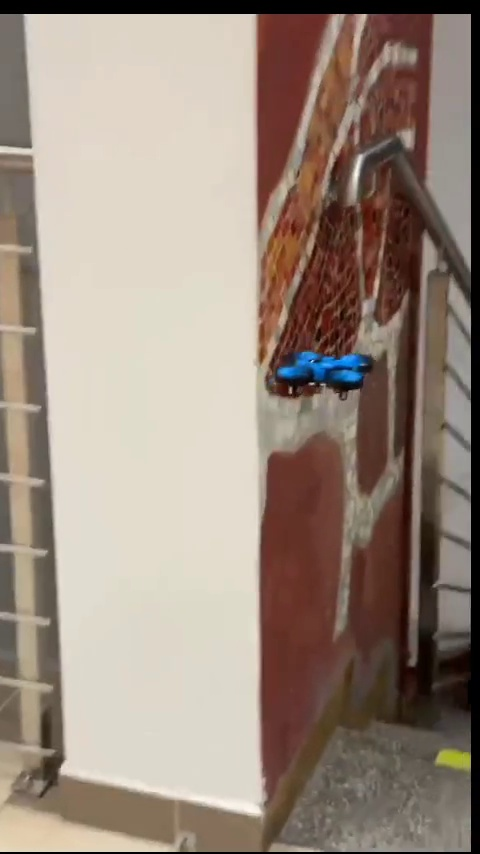drone: (271, 351, 376, 396)
